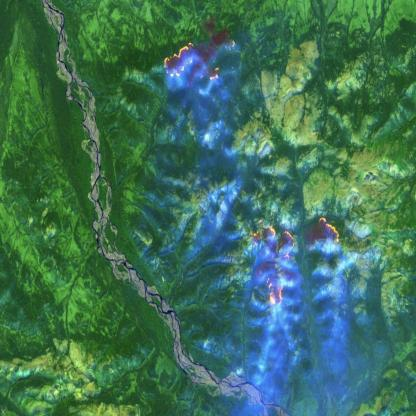fire: (245, 216, 344, 310), (161, 38, 222, 87)
